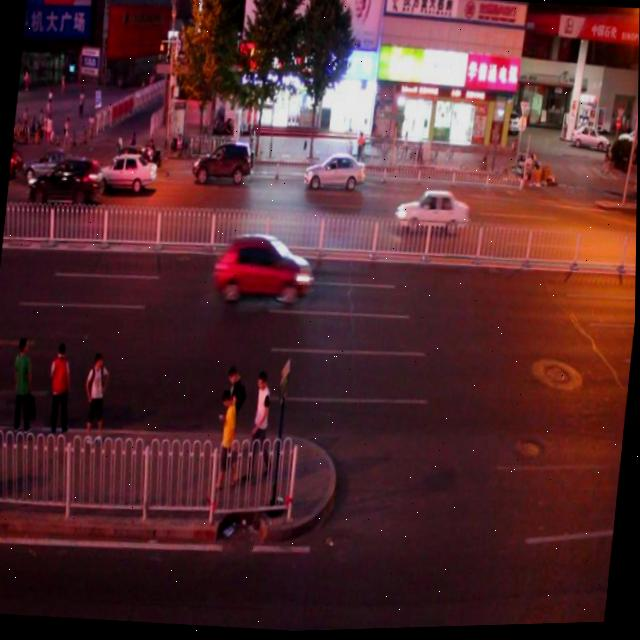car: (210, 226, 318, 310), (26, 147, 108, 208), (188, 135, 261, 193), (395, 186, 472, 240), (301, 146, 369, 202), (21, 140, 87, 192), (94, 148, 159, 195), (105, 138, 158, 193)
